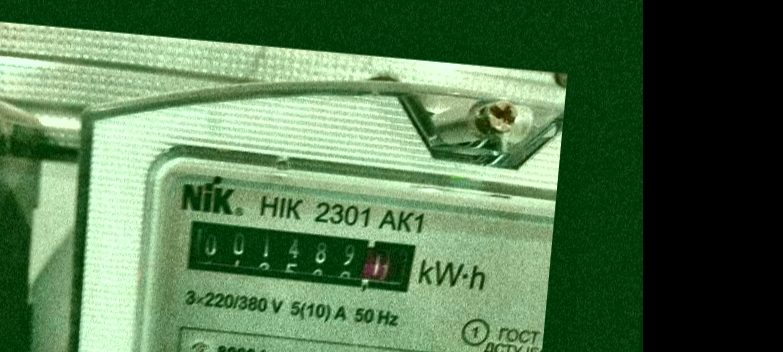0: (228, 228, 246, 255), (201, 230, 218, 256)
1: (257, 230, 273, 260), (368, 246, 382, 277)
4: (284, 233, 302, 261)
8: (310, 236, 329, 264)
9: (339, 240, 356, 267)
screen: (169, 207, 431, 306)
